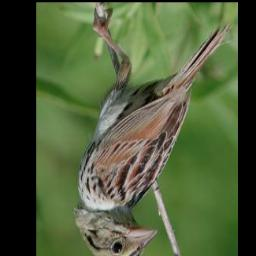Sparrow: (72, 7, 232, 256)
